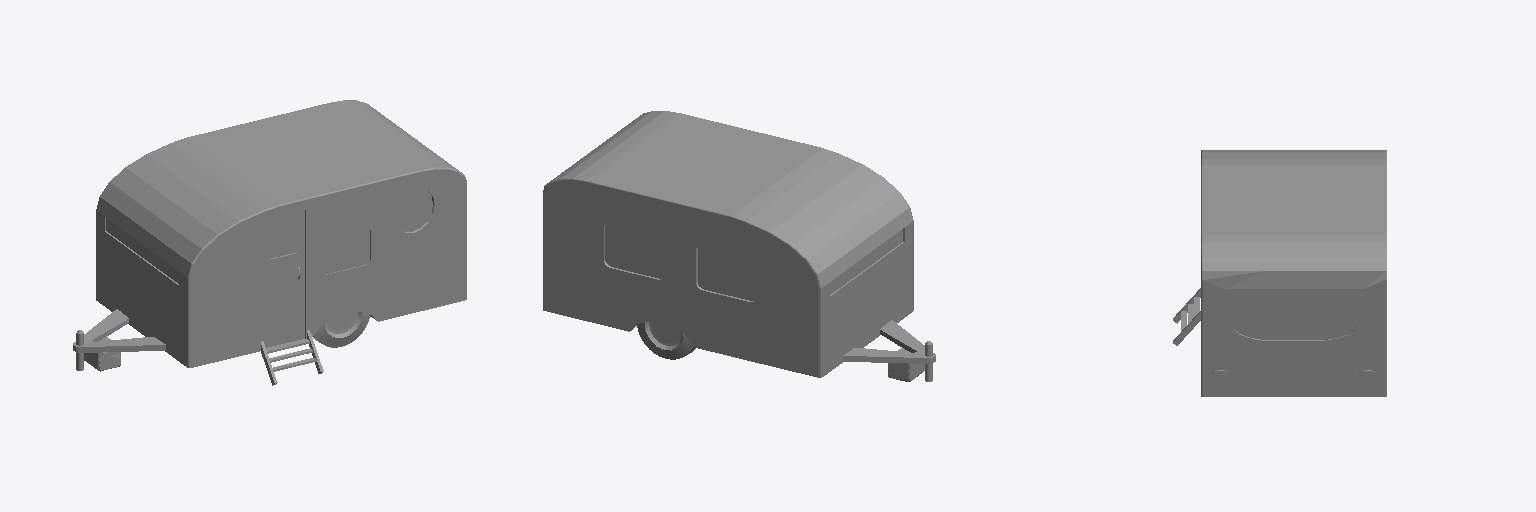
3 renders of one model, left to right at view 1: azimuth 30°, elevation 25°; view 2: azimuth 150°, elevation 25°; view 3: azimuth 270°, elevation 25°, orthographic.
Visible parts, largest first — view 1: top_and_stairs_Circle.006, trailer_sides_Circle.004, windows_Circle.000, tyres_and_support_Cylinder.001, rock_Cylinder.004; view 2: top_and_stairs_Circle.006, trailer_sides_Circle.004, windows_Circle.000, tyres_and_support_Cylinder.001, rock_Cylinder.004; view 3: top_and_stairs_Circle.006, windows_Circle.000.
Part boxes in pixels (x1,y1,x2,y2): top_and_stairs_Circle.006: (96, 100, 466, 385); trailer_sides_Circle.004: (128, 141, 466, 367); windows_Circle.000: (105, 187, 434, 284); tyres_and_support_Cylinder.001: (73, 309, 374, 370); rock_Cylinder.004: (84, 337, 120, 371); top_and_stairs_Circle.006: (547, 111, 913, 377); trailer_sides_Circle.004: (543, 157, 869, 377); windows_Circle.000: (591, 181, 904, 301); tyres_and_support_Cylinder.001: (633, 320, 935, 381); rock_Cylinder.004: (888, 348, 924, 381); top_and_stairs_Circle.006: (1173, 150, 1385, 396); windows_Circle.000: (1233, 296, 1355, 340).
Size of the model in its own units: 41.06 by 18.83 by 21.98.